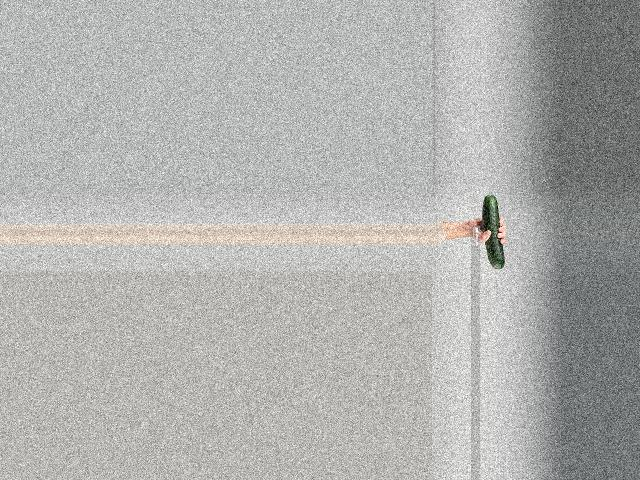cucumber: (482, 196, 504, 269)
